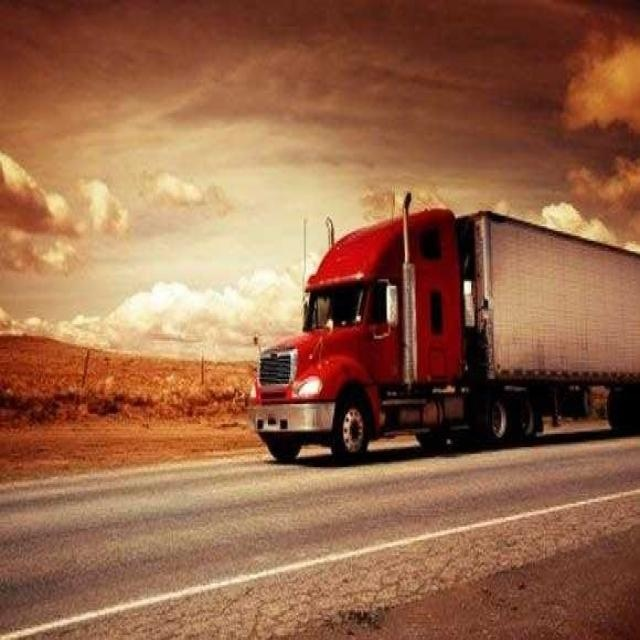Truck: (254, 196, 640, 471)
